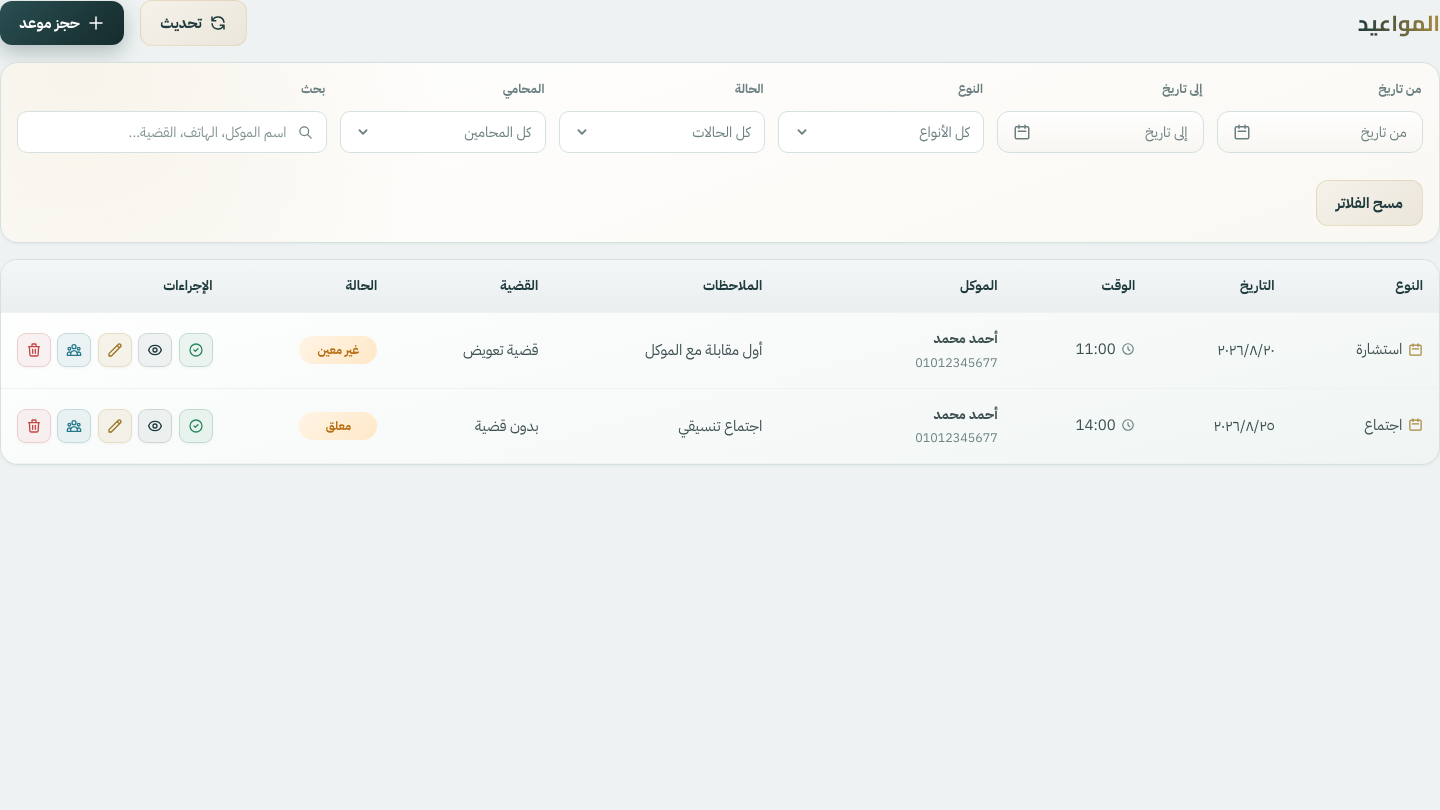
Scenario: AppointmentsPage Feature Tests › validates required fields when booking a new appointment
Click the button "حجز موعد".
click(62, 23)  # box [0,1,124,45]
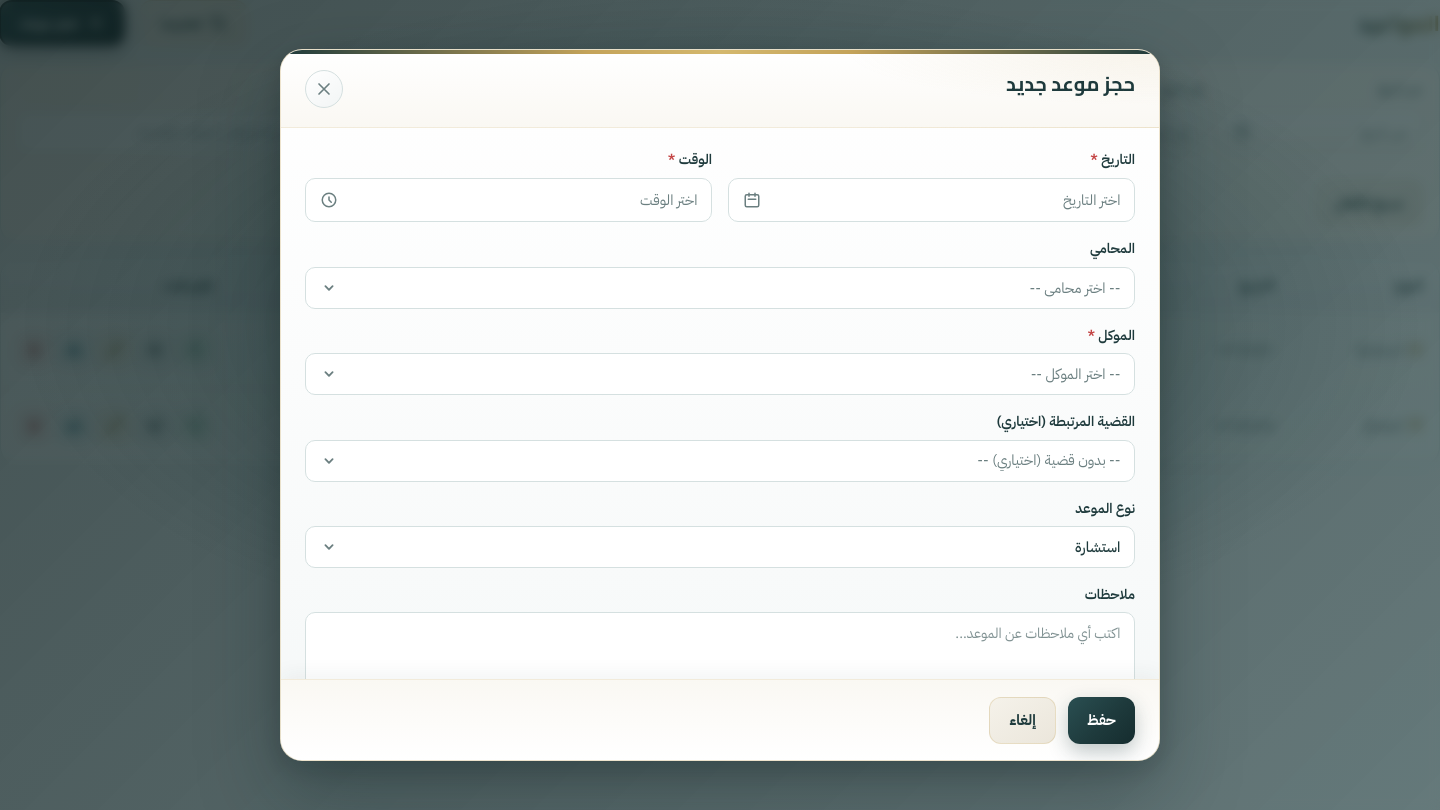
expect the heading "حجز موعد جديد" is shown: met, box [1006,70,1135,97]
Submit the form with id "appointment-form", box [305,149,1135,717]
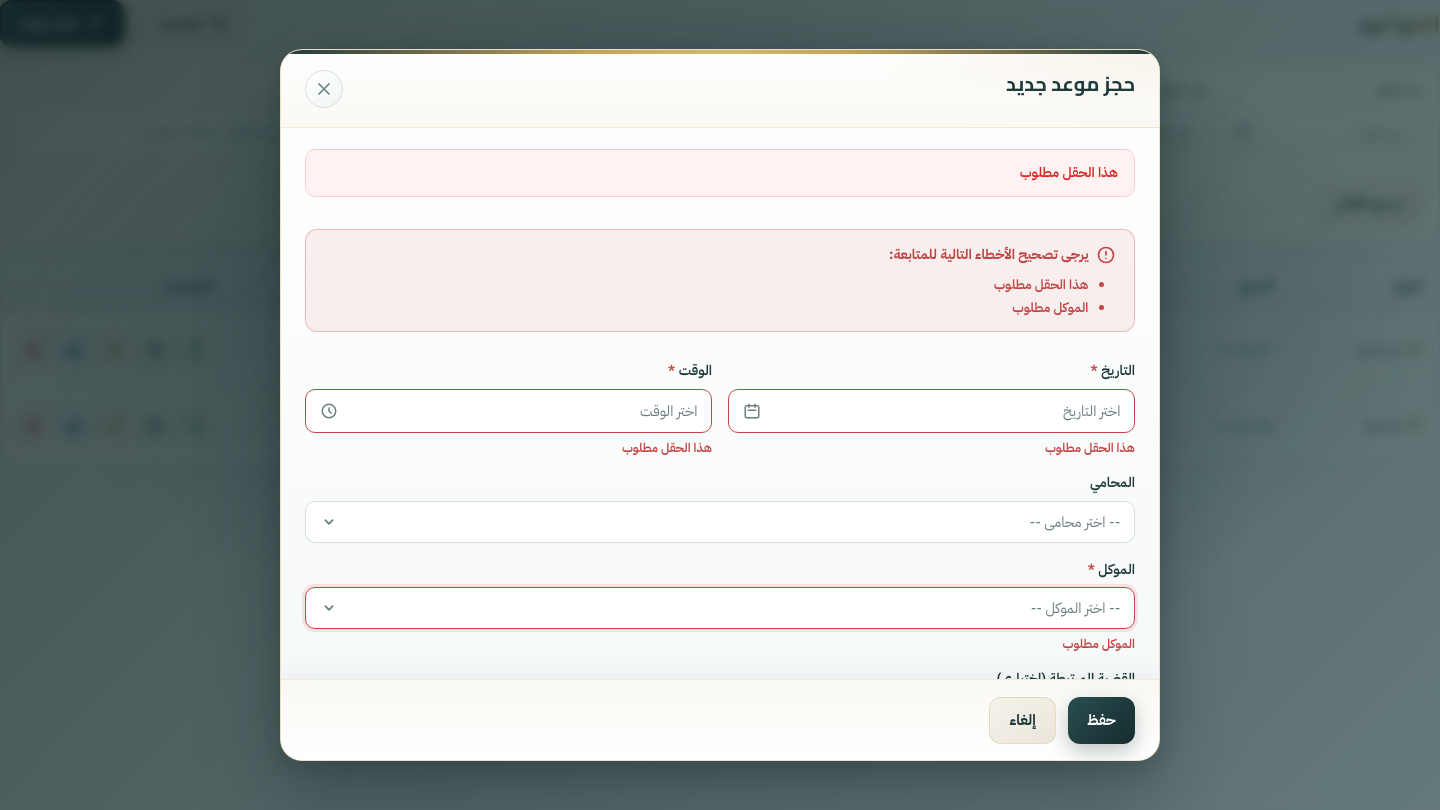
expect the list item "الموكل مطلوب" is shown: met, box [1012,298,1088,317]
expect the 1st text "هذا الحقل مطلوب" is shown: met, box [305,149,1135,197]
